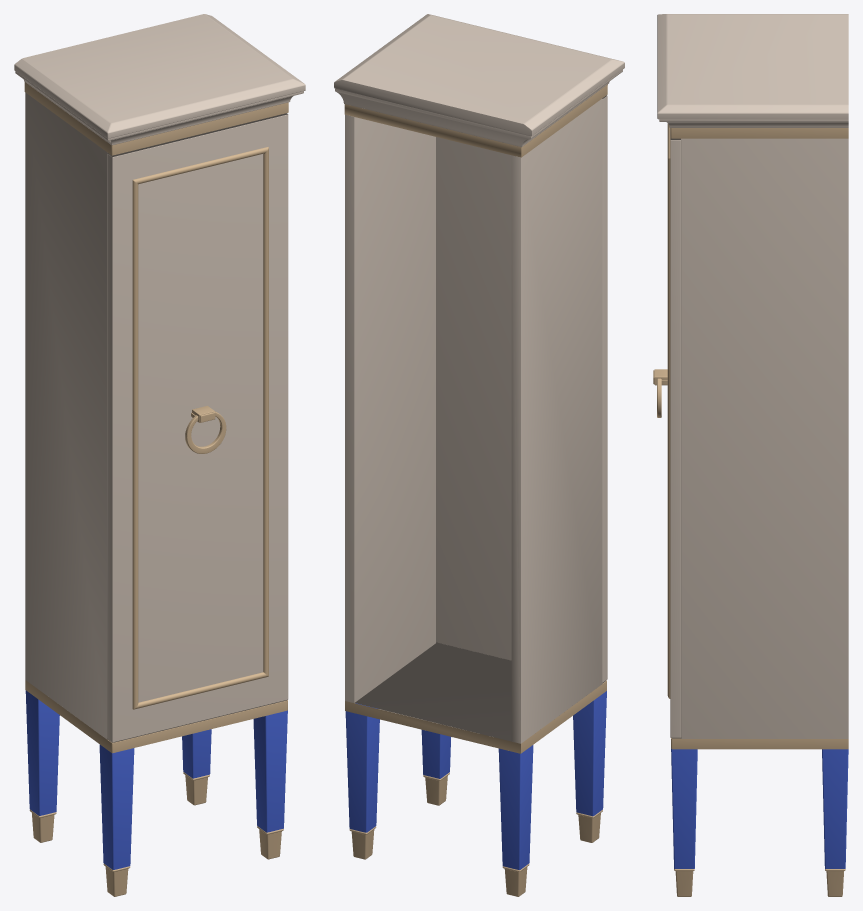
The picture shows the model from 3 angles, left to right: view 1: azimuth 30°, elevation 25°; view 2: azimuth 150°, elevation 25°; view 3: azimuth 270°, elevation 25°; orthographic projection. The views are drawn at different scales.
Parts seen in each view (by area): view 1: AV10; view 2: AV10; view 3: AV10.
Part boxes in pixels (<box>): AV10: <box>14,14,305,896</box>; AV10: <box>334,14,624,896</box>; AV10: <box>653,14,848,896</box>.
Size of the model in its own units: 0.394 by 1.48 by 0.3289.
Materials: 5 (2 with a texture image).
